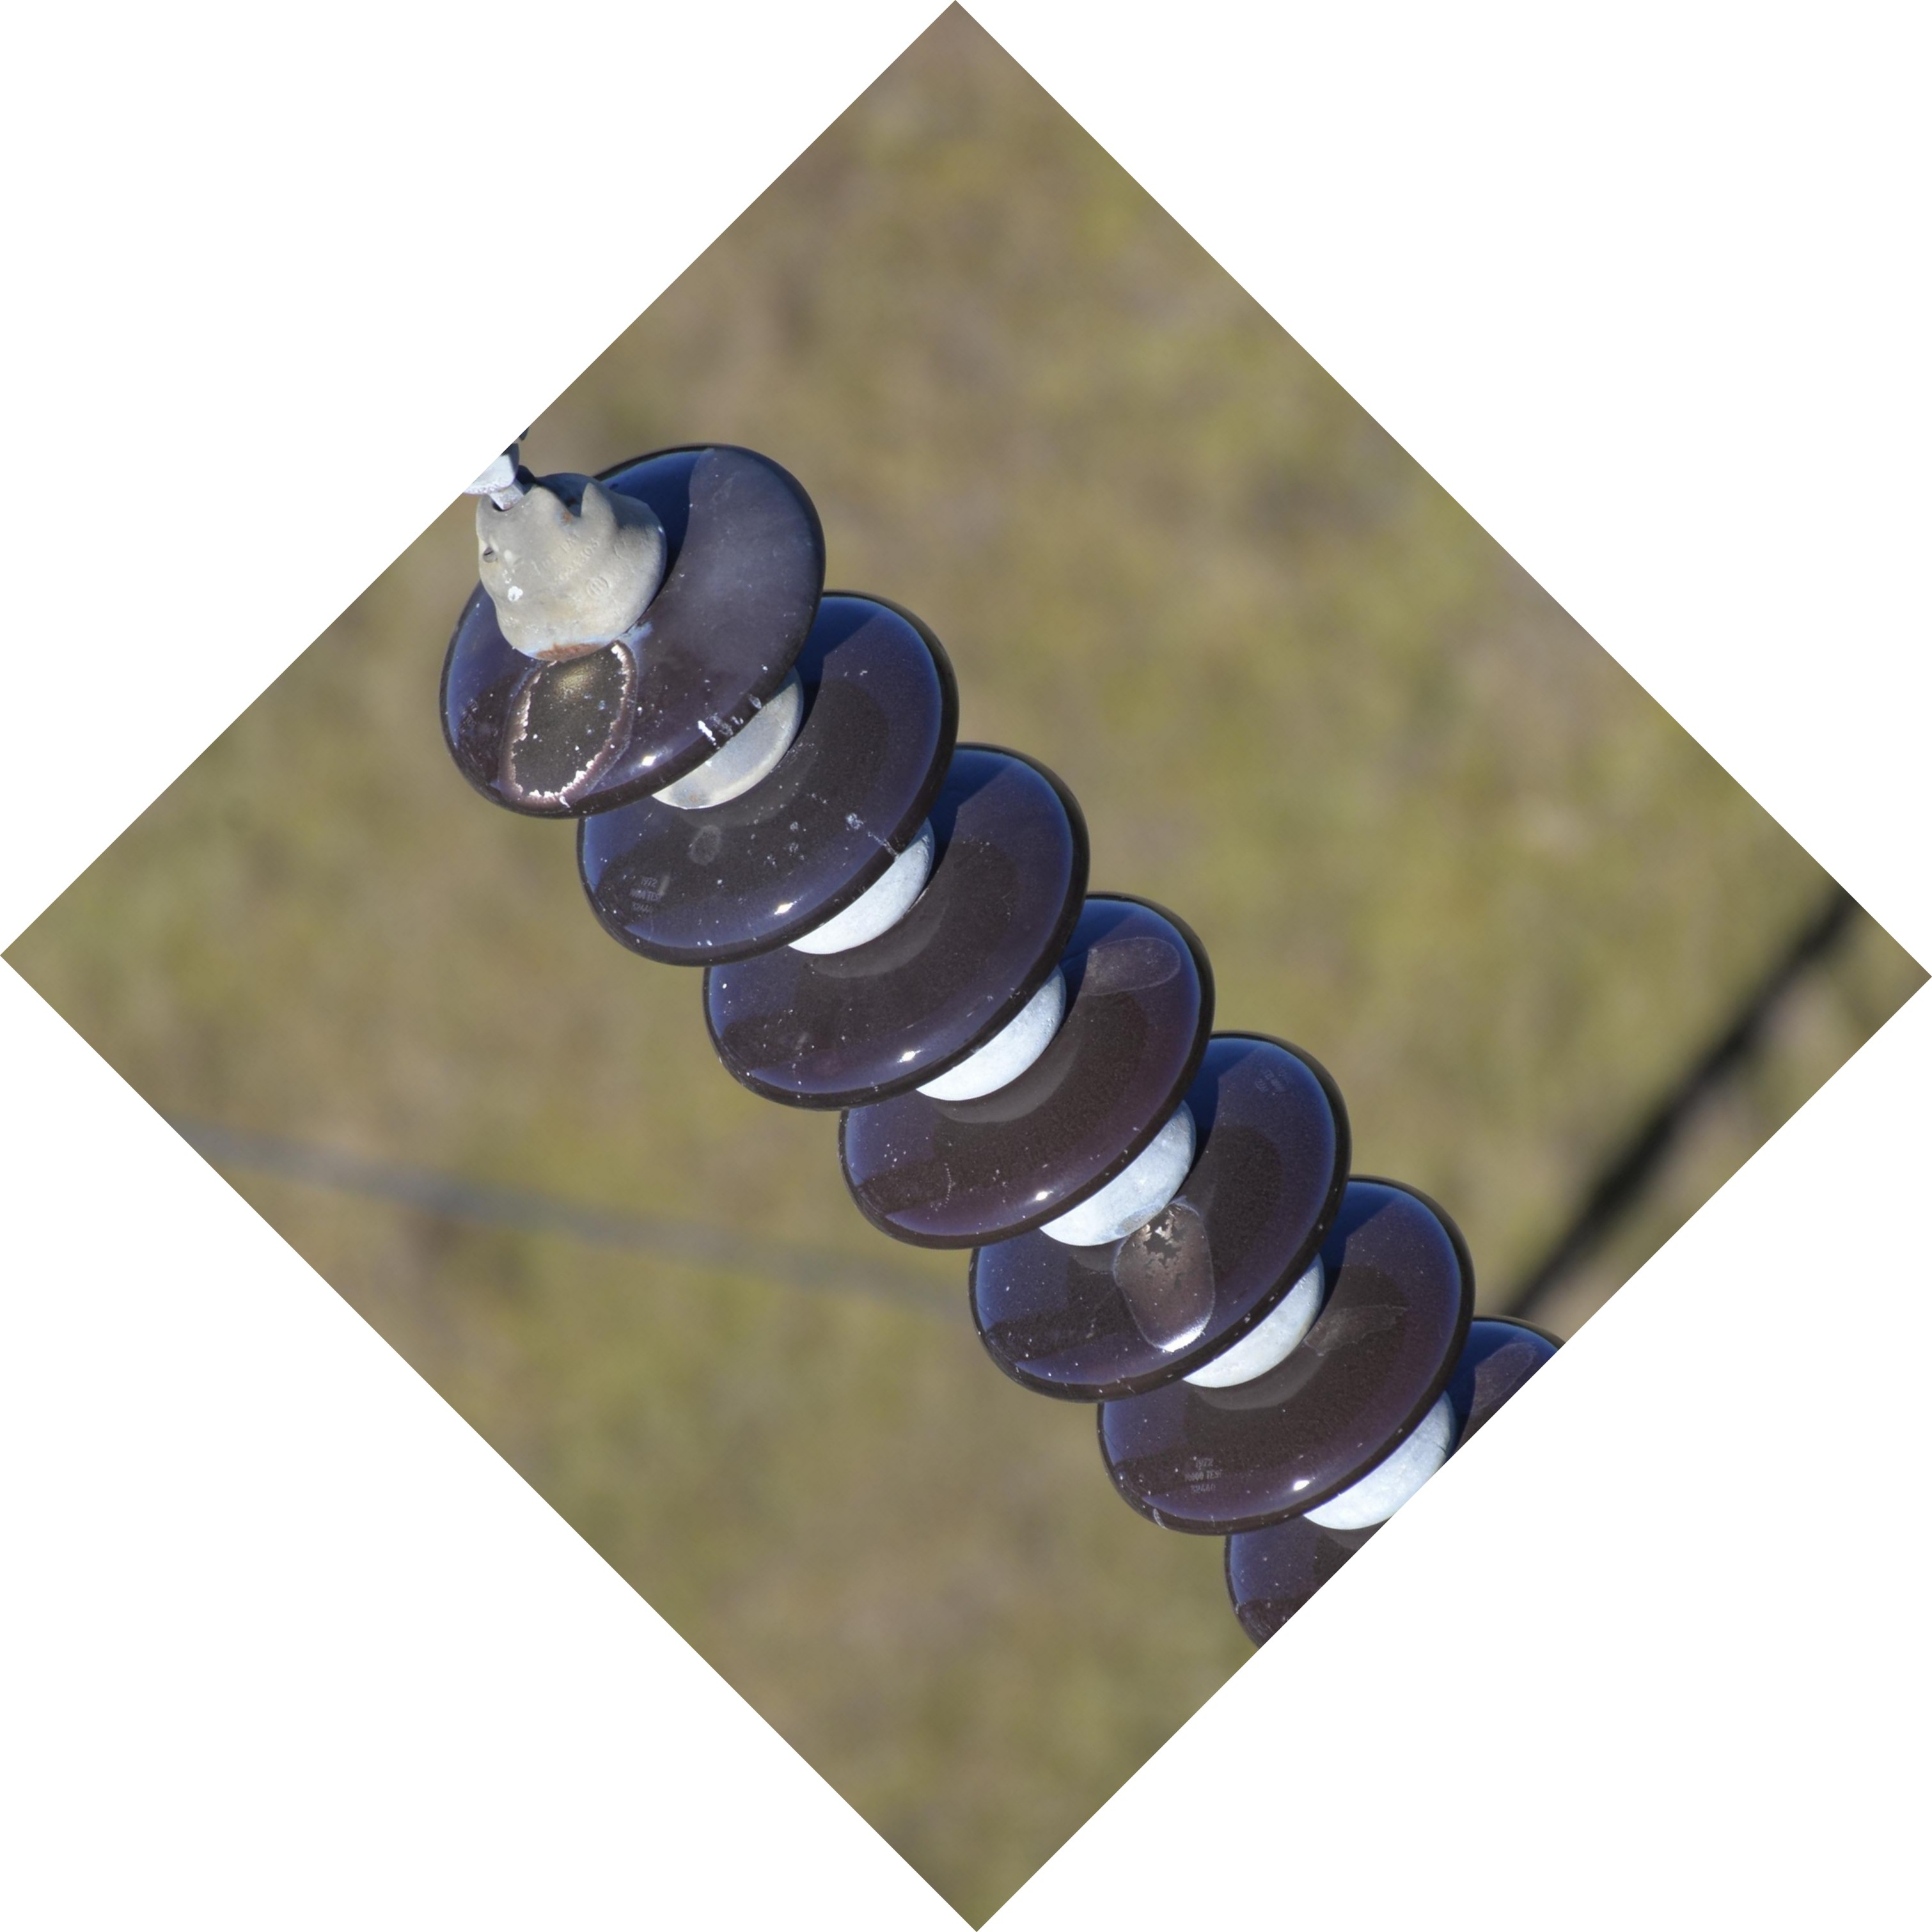Insulator flashover: (405, 432, 833, 817)
